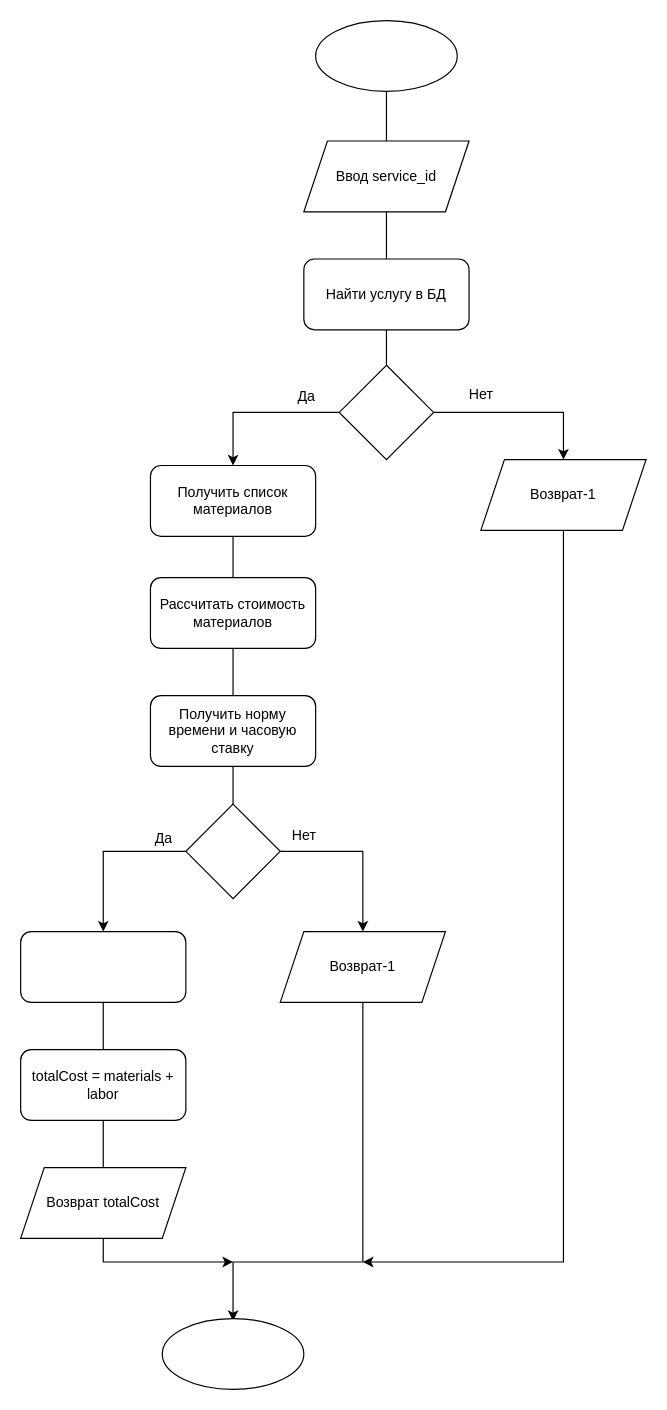
The diagram is 667 pixels wide and 1410 high, and some of its shapes have lost their labels. The shapes that lost their labels are listed below. From the top down, each one's centre as x and y in pixels, then its label:
pixel 385 55: Начало
pixel 386 412: Услуга найдена?
pixel 232 851: Данные найдены?
pixel 102 966: Вычислить трудозатраты
pixel 232 1353: Конец
